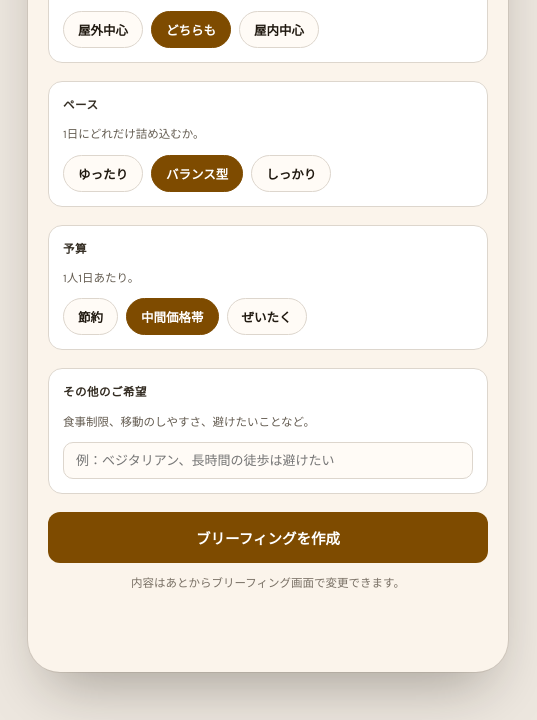
answered — 応答由来のルートと出典 › 答えられなかった興味（#29 の gaps）を結果として表示する
(page scrolled)
Step 1. Click the button "ブリーフィングを作成" → [268, 538], box top-left (48, 512), bottom-right (488, 563)
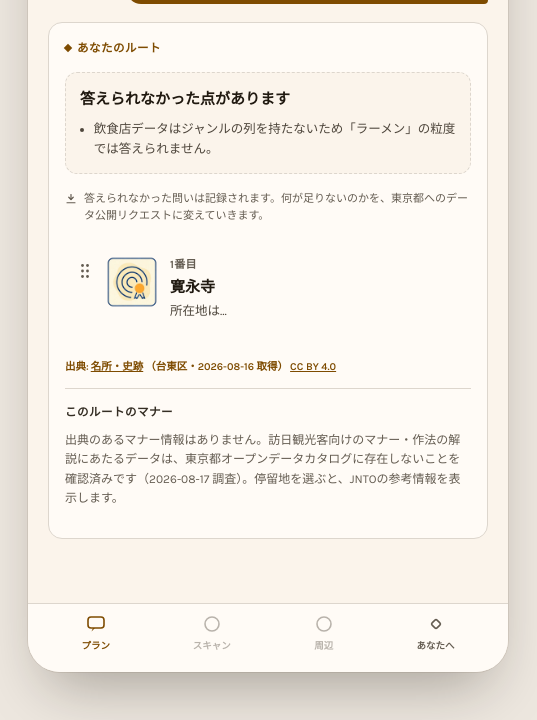
expect the text "答えられなかった点があります" is shown: met, box top-left (80, 89), bottom-right (290, 108)
expect the list item "飲食店データはジャンルの列を持たないため「ラーメン」の粒度では答えられません。" is shown: met, box top-left (94, 119), bottom-right (456, 159)
expect the text "寛永寺" is shown: met, box top-left (170, 277), bottom-right (215, 296)
